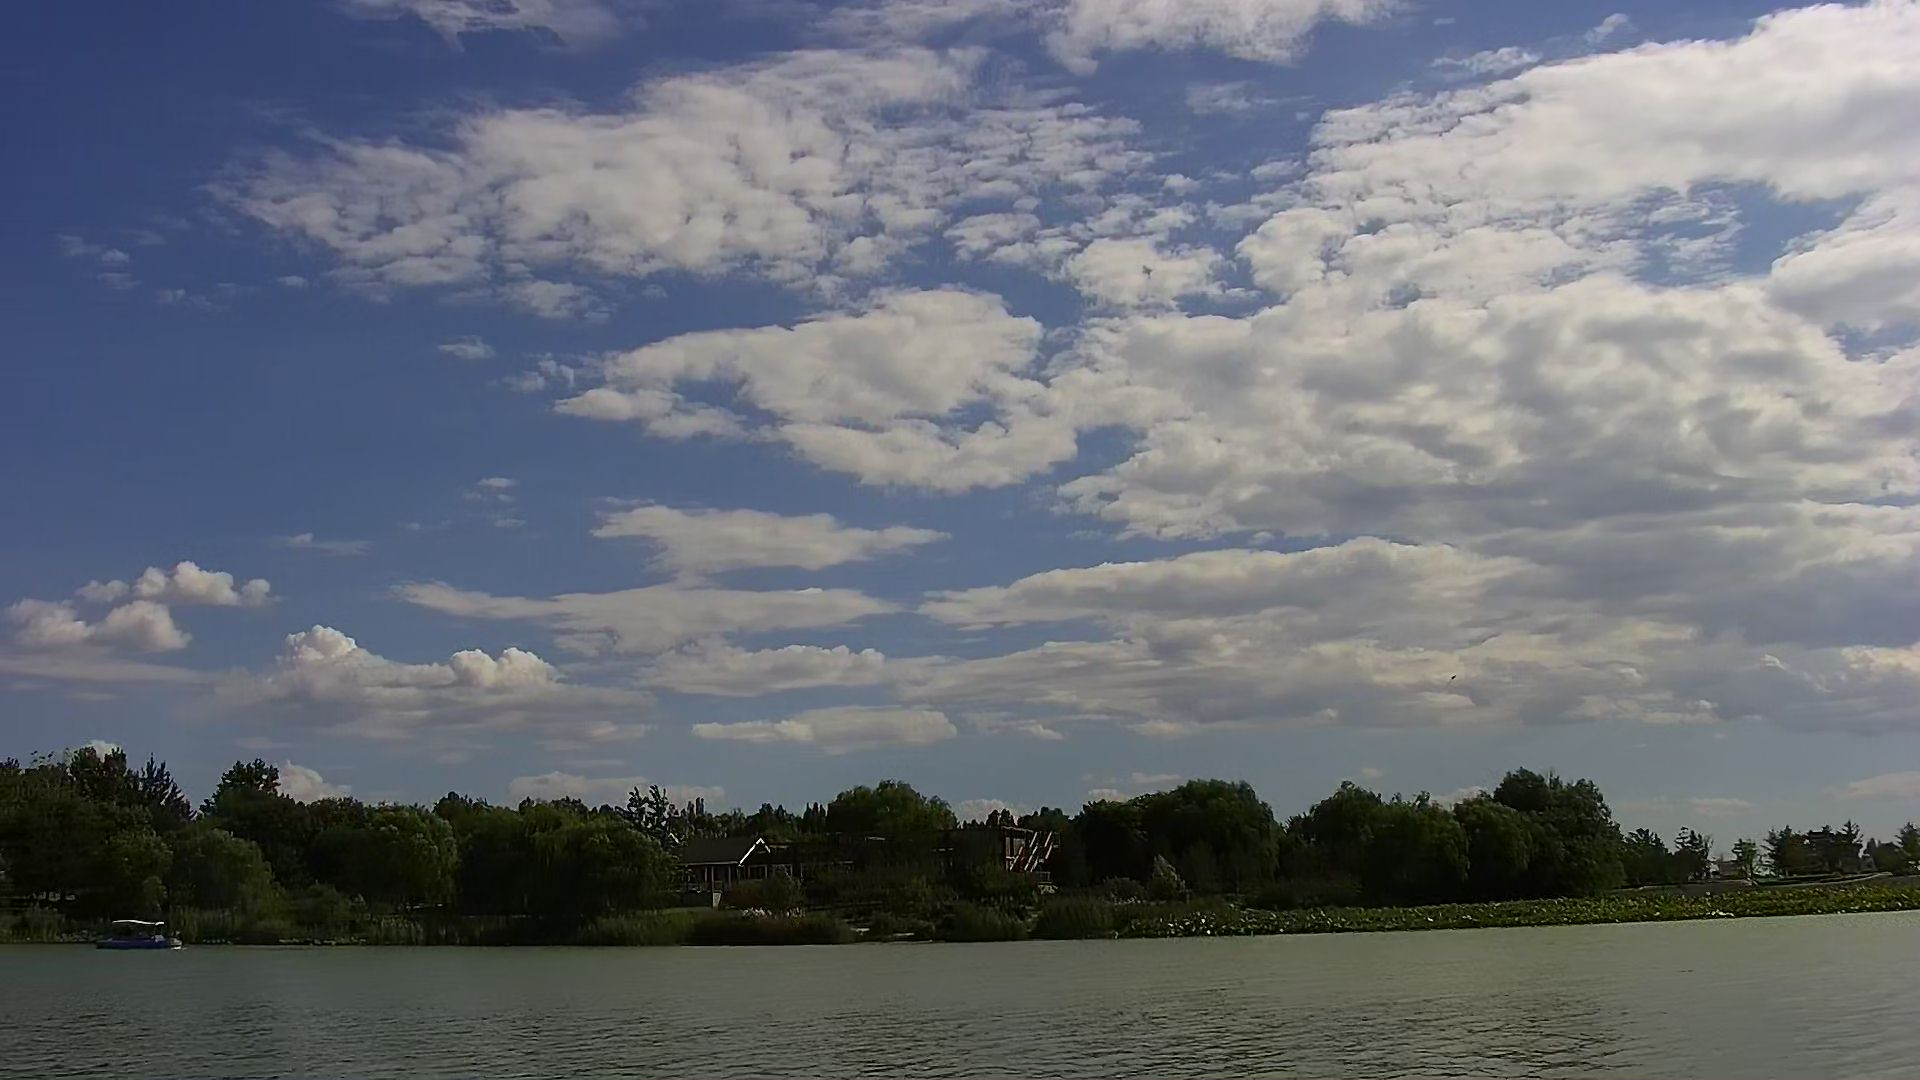boat: (92, 913, 186, 959)
